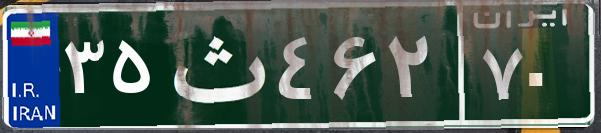0: (525, 38, 570, 115)
2: (385, 28, 445, 110)
3: (57, 26, 110, 107)
4: (273, 28, 330, 110)
5: (110, 28, 158, 105)
6: (330, 28, 385, 110)
7: (475, 38, 525, 113)
ث: (158, 15, 273, 115)
